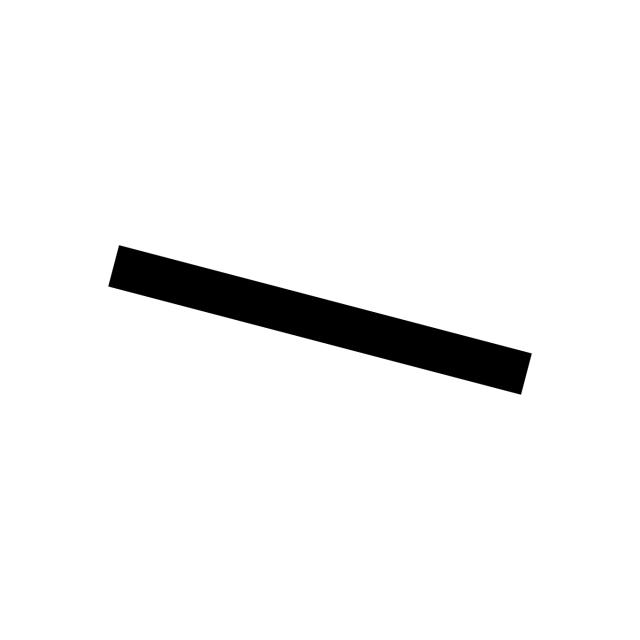line: (108, 245, 532, 395)
